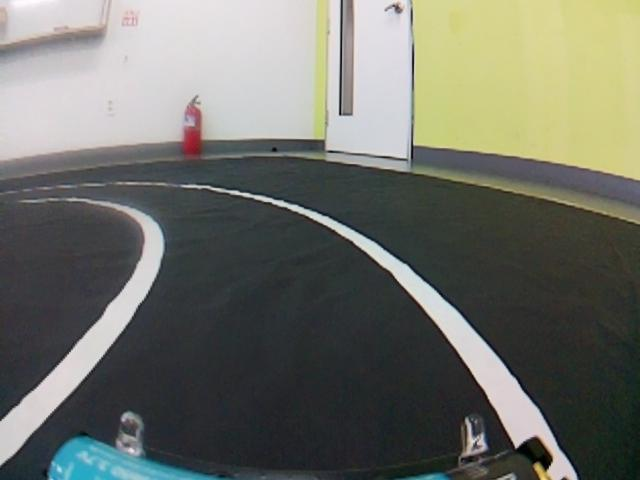straight: (0, 244, 620, 479)
